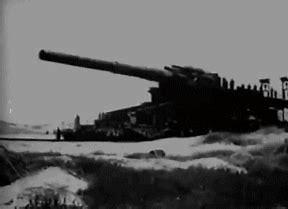MIL_SPG: (39, 51, 288, 141)
